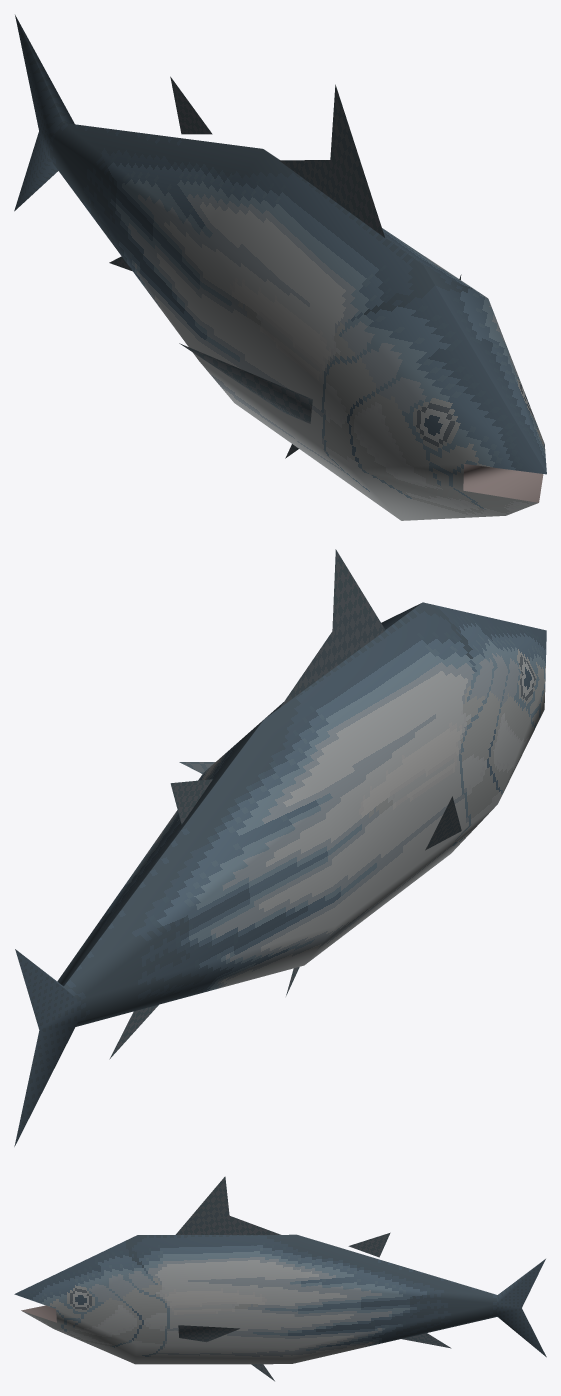
The model's file is 01dd_Bonito.glb.
3 renders of one model, top to bottom at view 1: azimuth 30°, elevation 25°; view 2: azimuth 150°, elevation 25°; view 3: azimuth 270°, elevation 25°, orthographic. The views are drawn at different scales.
Parts seen in each view (by area): view 1: part_0; view 2: part_0; view 3: part_0.
Boxes of the visible parts, box(x1,y1,x2,y2) form: part_0: box(14, 15, 546, 520); part_0: box(14, 549, 546, 1146); part_0: box(14, 1176, 546, 1381).
Size of the model in its own units: 0.171 by 0.2377 by 0.5574.
1 material, 1 textured.
